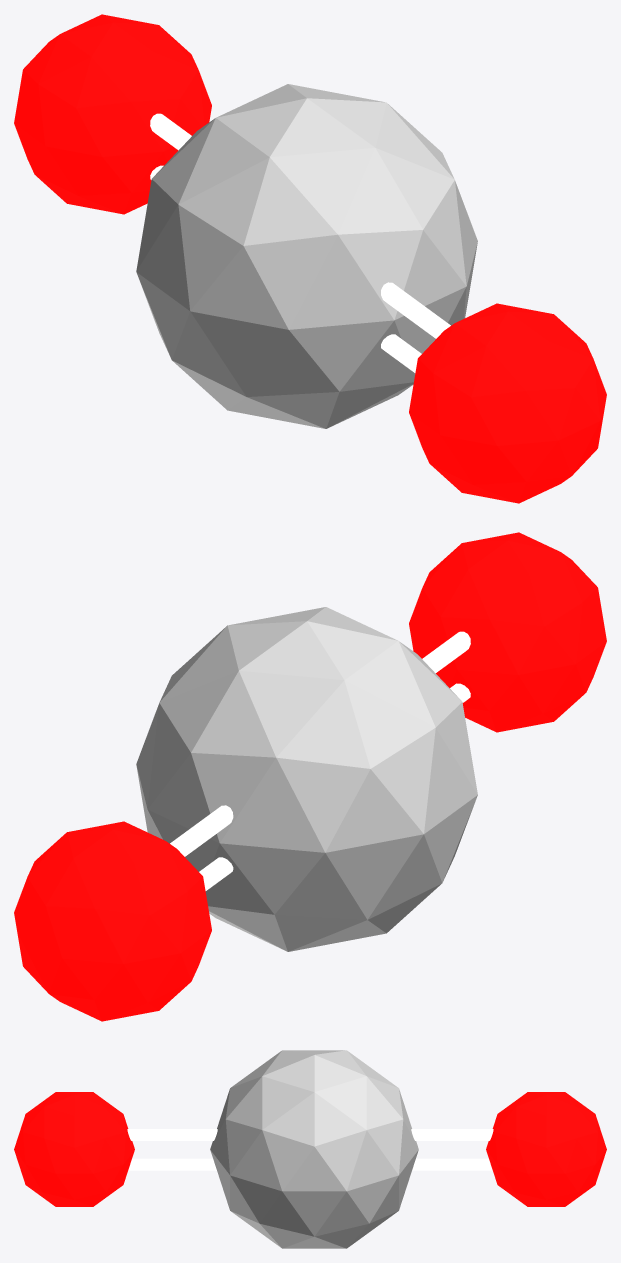
3 views of the same model, one above another, from view 1: azimuth 30°, elevation 25°; view 2: azimuth 150°, elevation 25°; view 3: azimuth 270°, elevation 25° (orthographic). The views are drawn at different scales.
Parts seen in each view (by area): view 1: c02_v002_001, Cylinder_003002, Cylinder_005002_1, Cylinder_003002_1, Cylinder_005002; view 2: c02_v002_001, Cylinder_005002_1, Cylinder_003002, Cylinder_005002, Cylinder_003002_1; view 3: c02_v002_001, Cylinder_003002, Cylinder_005002_1, Cylinder_003002_1, Cylinder_005002.
Boxes of the visible parts, bbox=[...] form: c02_v002_001: bbox=[136, 84, 477, 428]; Cylinder_003002: bbox=[409, 303, 606, 503]; Cylinder_005002_1: bbox=[14, 14, 211, 214]; Cylinder_003002_1: bbox=[381, 282, 450, 372]; Cylinder_005002: bbox=[150, 113, 191, 179]; c02_v002_001: bbox=[136, 607, 477, 951]; Cylinder_005002_1: bbox=[14, 821, 211, 1021]; Cylinder_003002: bbox=[409, 532, 606, 732]; Cylinder_005002: bbox=[170, 805, 233, 890]; Cylinder_003002_1: bbox=[422, 631, 470, 702]; c02_v002_001: bbox=[210, 1050, 418, 1248]; Cylinder_003002: bbox=[14, 1092, 134, 1206]; Cylinder_005002_1: bbox=[486, 1092, 606, 1206]; Cylinder_003002_1: bbox=[127, 1129, 217, 1170]; Cylinder_005002: bbox=[411, 1129, 493, 1170].
Bounding box in the file's own units: 0.8736 × 0.9186 × 2.61.
